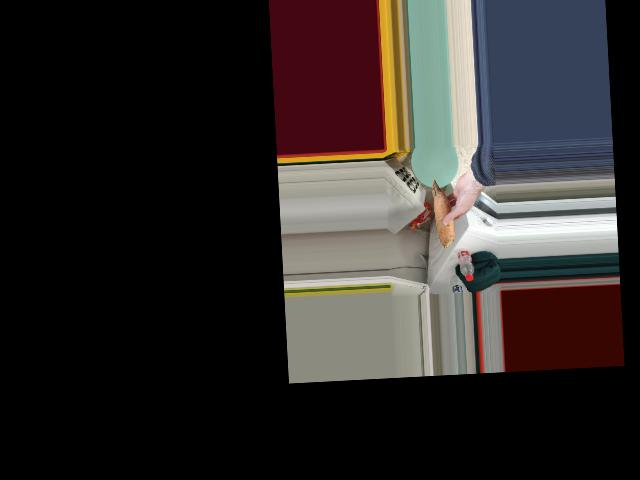sweet_potato: (432, 177, 454, 243)
